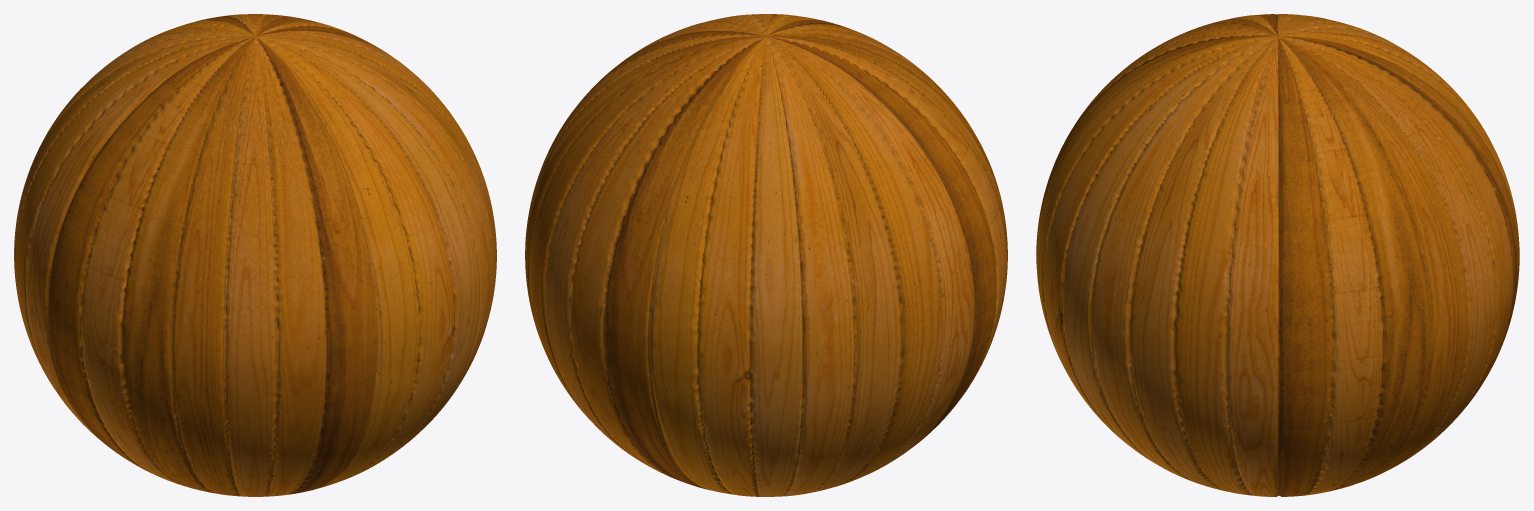
File: japanese_cedar_planks_2k.gltf
3 views of the same model, side by side, from view 1: azimuth 30°, elevation 25°; view 2: azimuth 150°, elevation 25°; view 3: azimuth 270°, elevation 25° (orthographic).
Parts seen in each view (by area): view 1: sphere_gltf; view 2: sphere_gltf; view 3: sphere_gltf.
Boxes of the visible parts, x1,y1,x2,y2 form: sphere_gltf: [14, 14, 496, 496]; sphere_gltf: [525, 14, 1007, 496]; sphere_gltf: [1036, 14, 1519, 496].
Size of the model in its own units: 1.14 by 1.14 by 1.14.
Materials: 1 (1 with a texture image).
